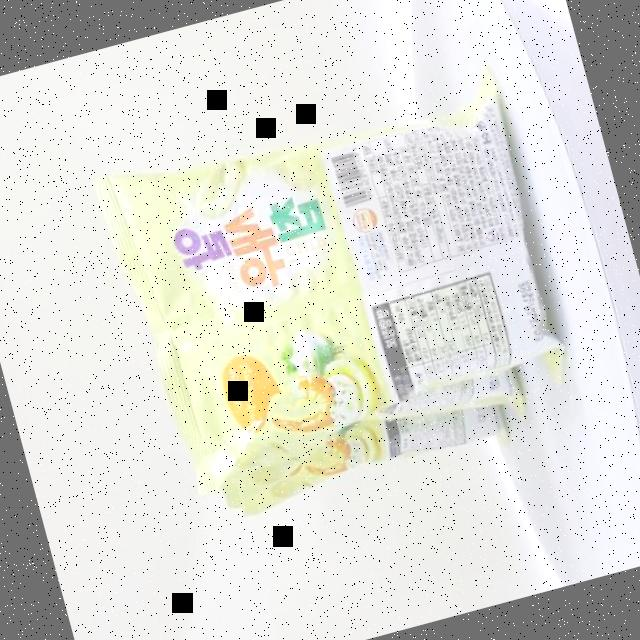snack_bag: (74, 46, 614, 556)
